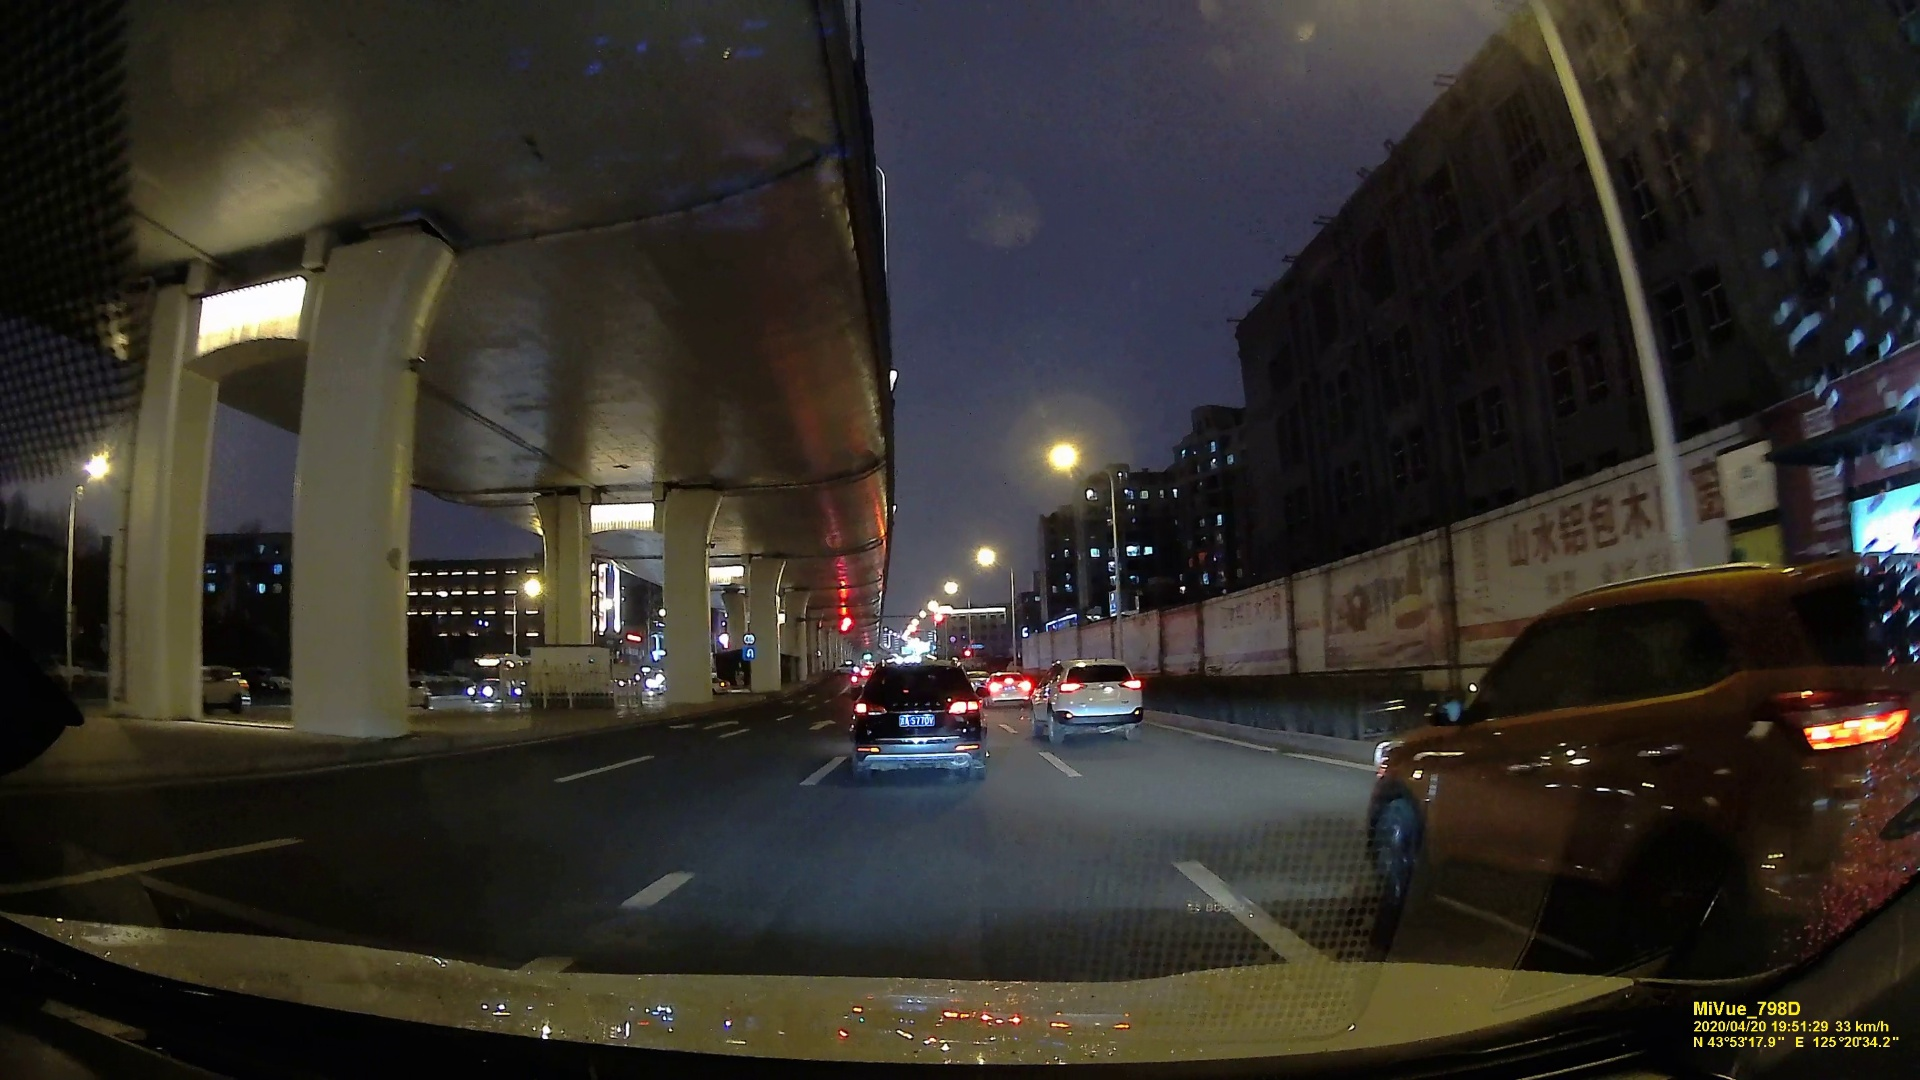person: (1377, 568, 1913, 938)
vehicle: (846, 662, 980, 782), (1032, 660, 1142, 734), (989, 671, 1028, 700), (464, 679, 507, 703)
